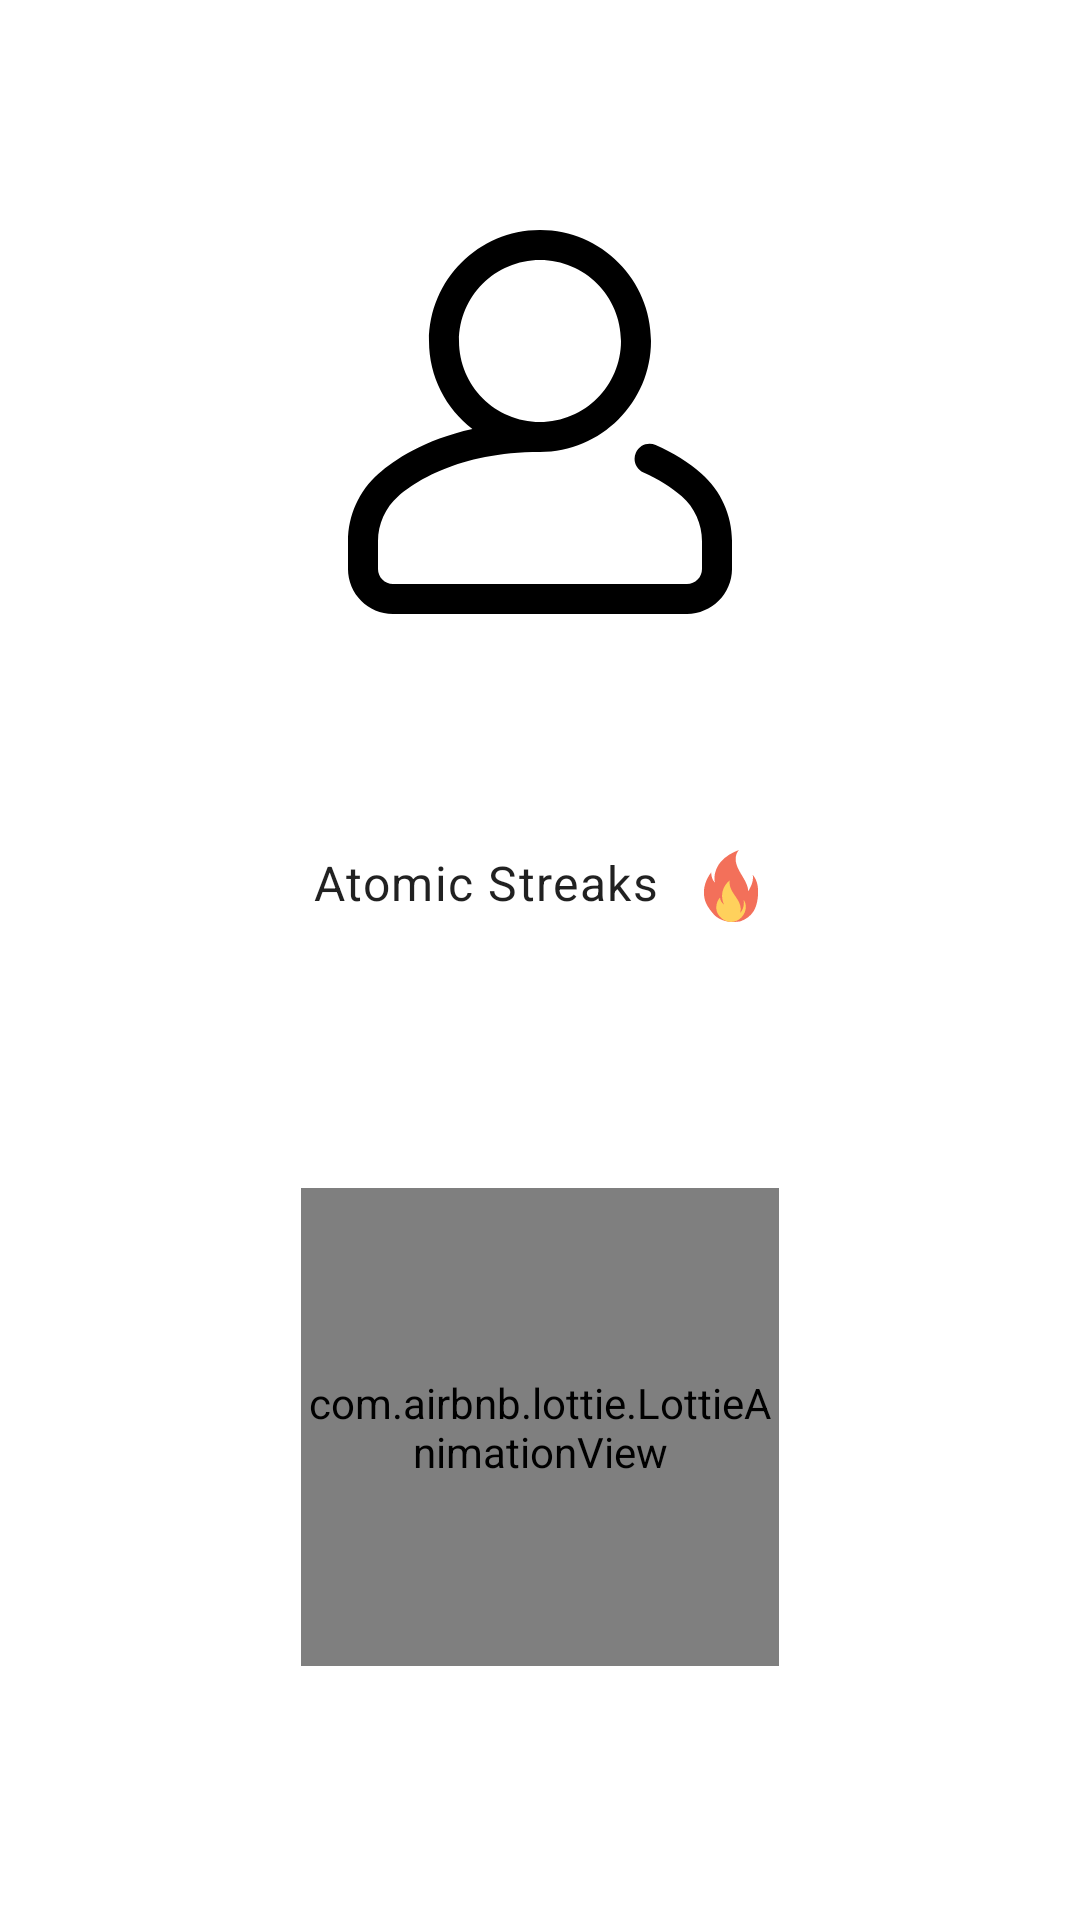

Icons on this 1080 × 1920 Android screen, each with the point to tap as [x,y]:
flame: [731,886]
